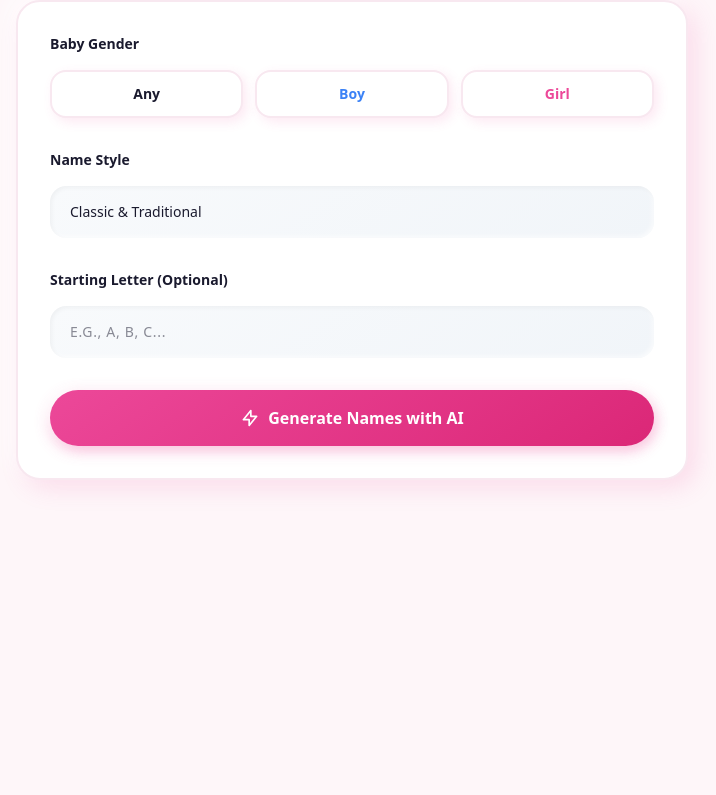
Test case: InlineGenerator › shows results after clicking generate
Click the button "Generate Names with AI" at (352, 418), box [50,390,654,446]
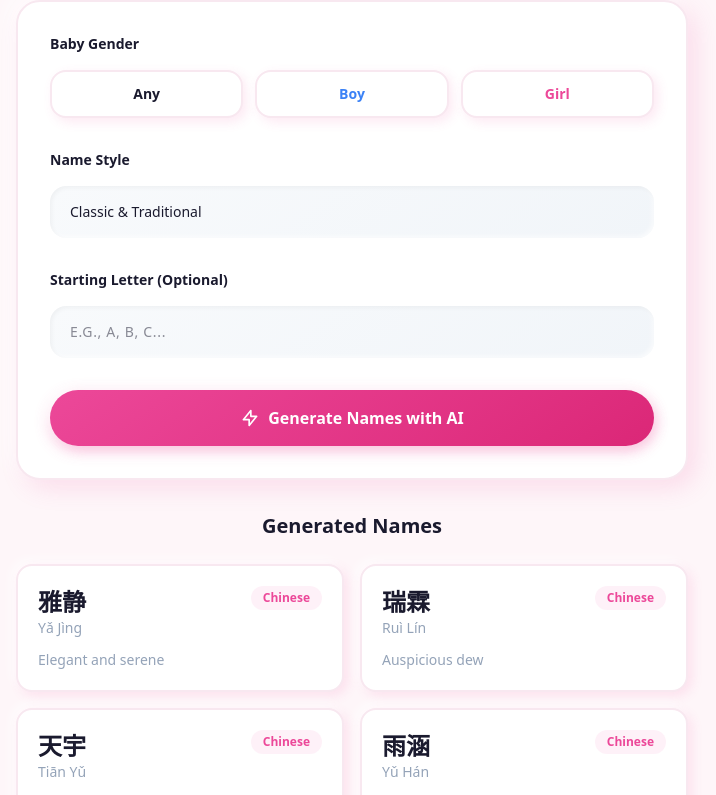
Expected: the heading "Generated Names" is shown, [262,512,442,539]
